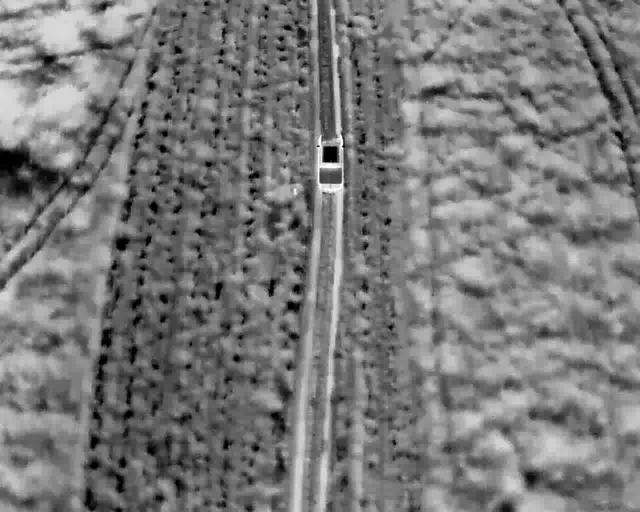car: (316, 133, 345, 192)
